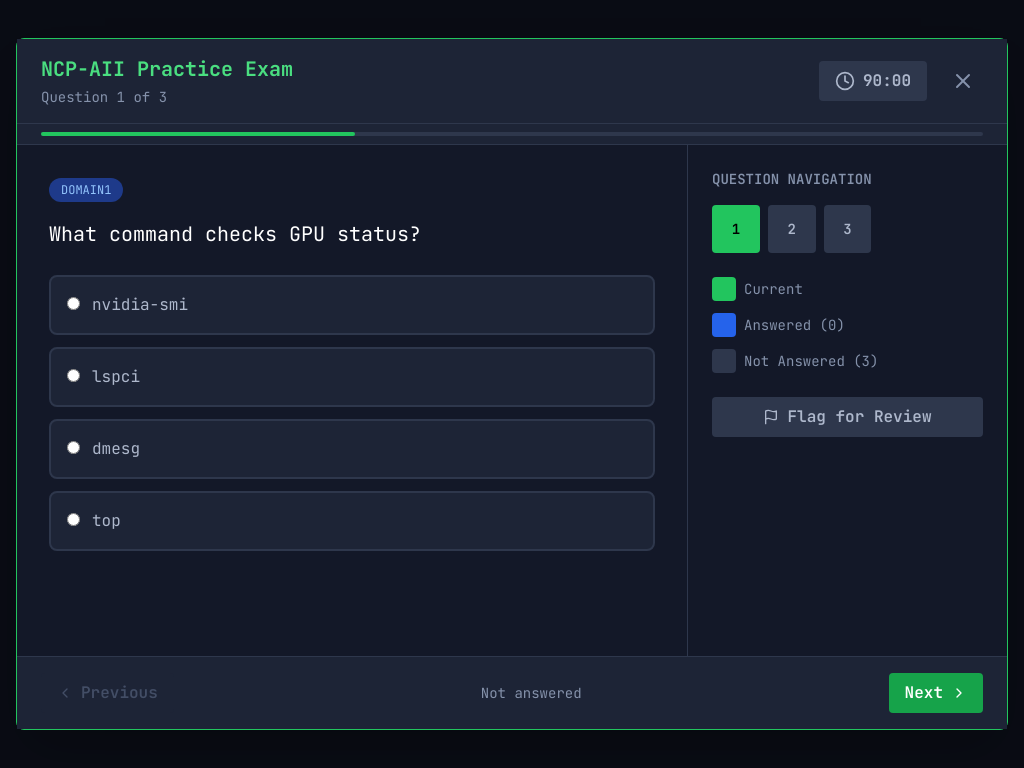
Test: ExamWorkspace › shows Submit Exam button on the last question instead of Next
This screenshot has width=1024, height=768.
Click the button "Next" at (936, 693), box [889,673,983,713]
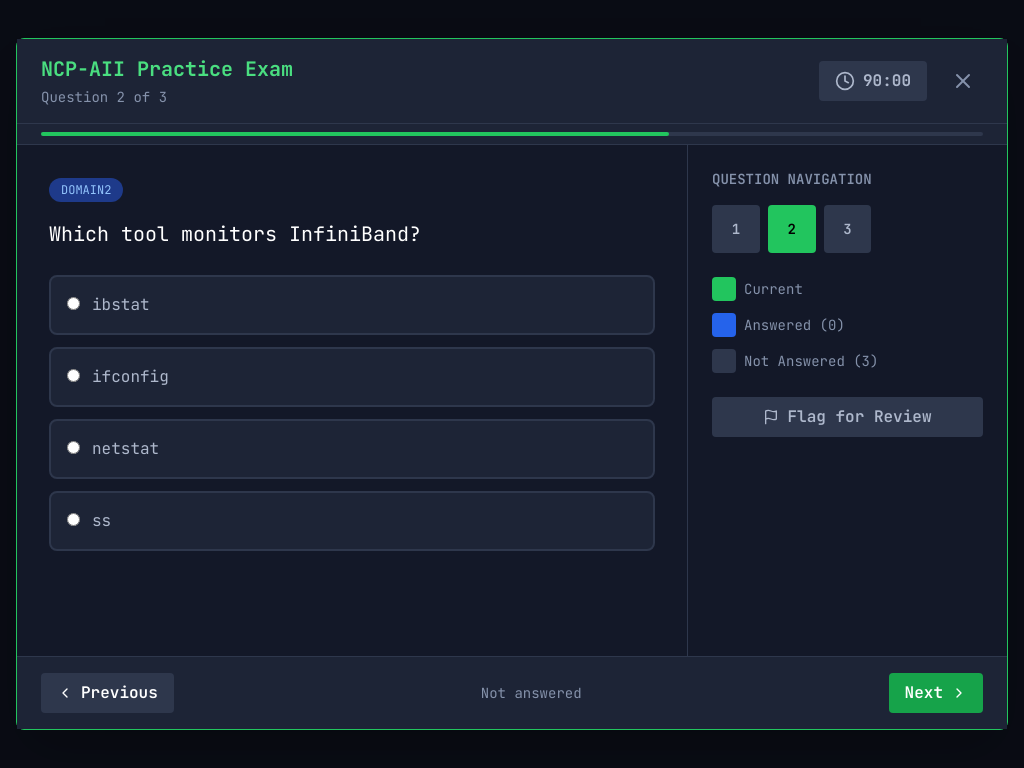
Click the button "Next" at (936, 693), box [889,673,983,713]
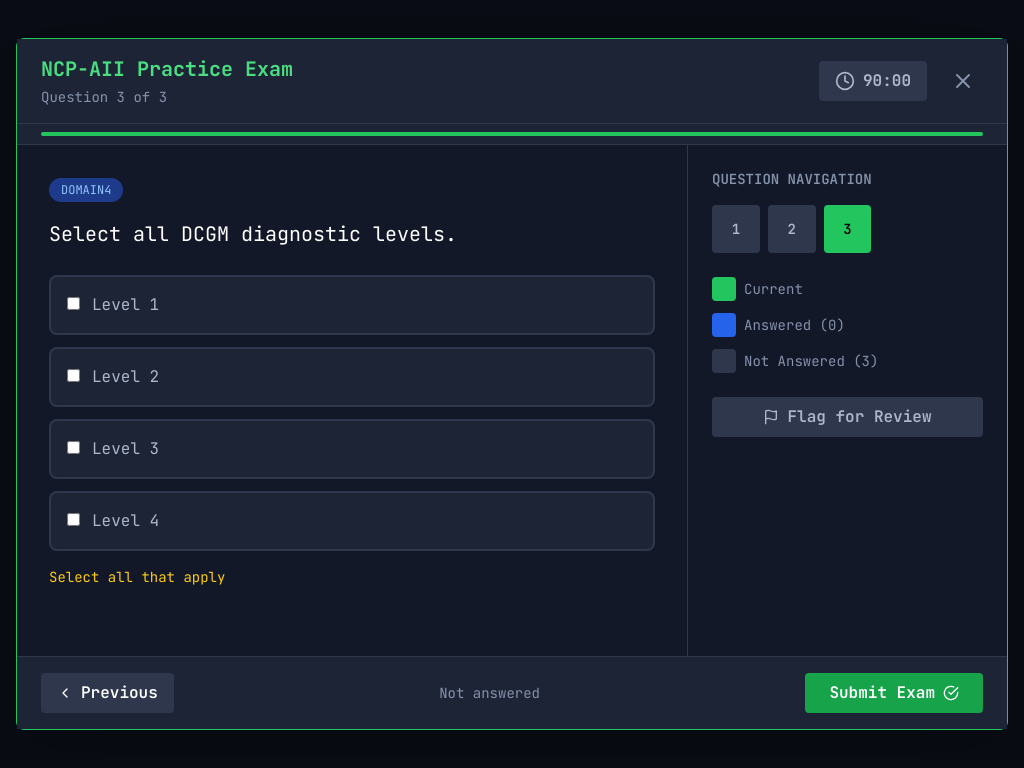
Expected: the text "Question 3 of 3" is shown, [41,88,167,106]
Expected: the button "Submit Exam" is shown, [805,673,983,713]
Expected: the button "Next" is gone
